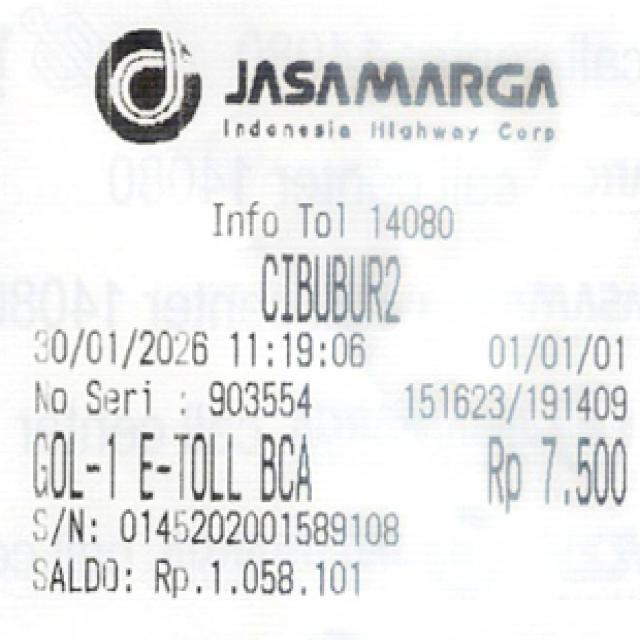date: (24, 326, 371, 368)
store: (221, 48, 574, 152)
total: (470, 422, 637, 512)
